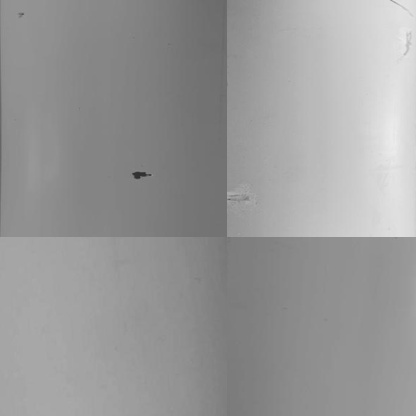kongdong: (130, 165, 149, 180)
sunshang: (228, 182, 269, 216), (388, 27, 410, 64)
